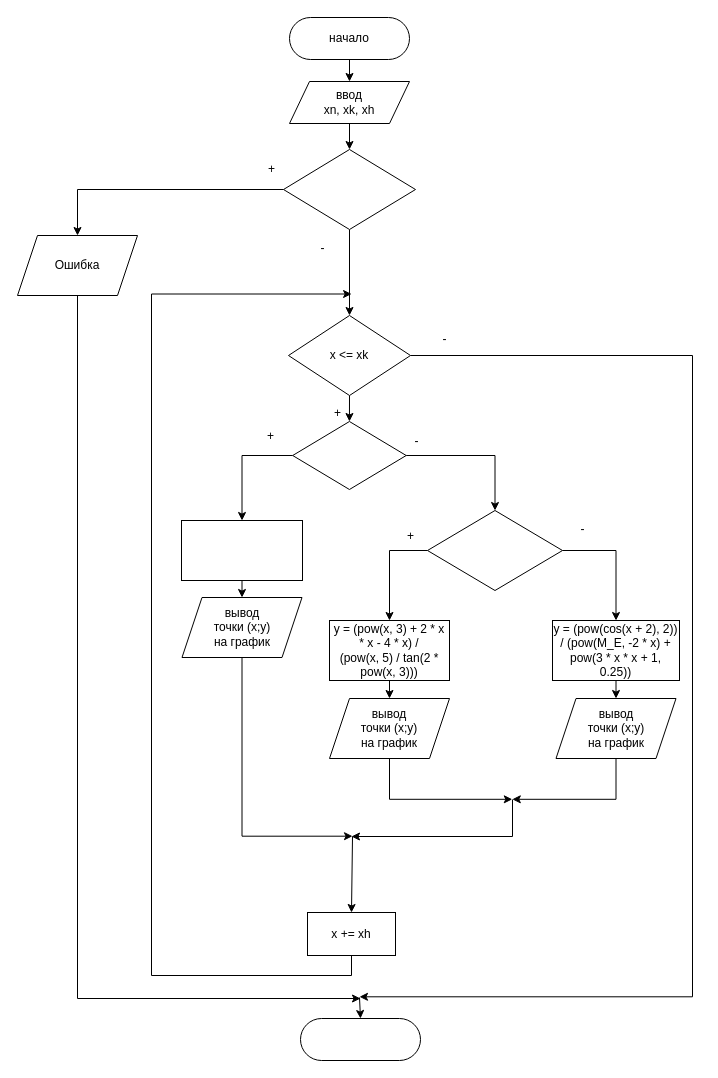
The diagram is 718 pixels wide and 1078 high, and some of its shapes have lost their labels. Each missing label, with the centre of its shape:
"(xn >= xk) || (xh > (xk - xn))" goes at point 349,189.
"x < 0" goes at point 349,455.
"x > 0 && x <= 5" goes at point 494,550.
"y = pow(M_E, -2 * x) + pow(2 * pow(x, 4) + x * x + 1, 1 / 7.)" goes at point 241,550.
"конец" goes at point 360,1039.
